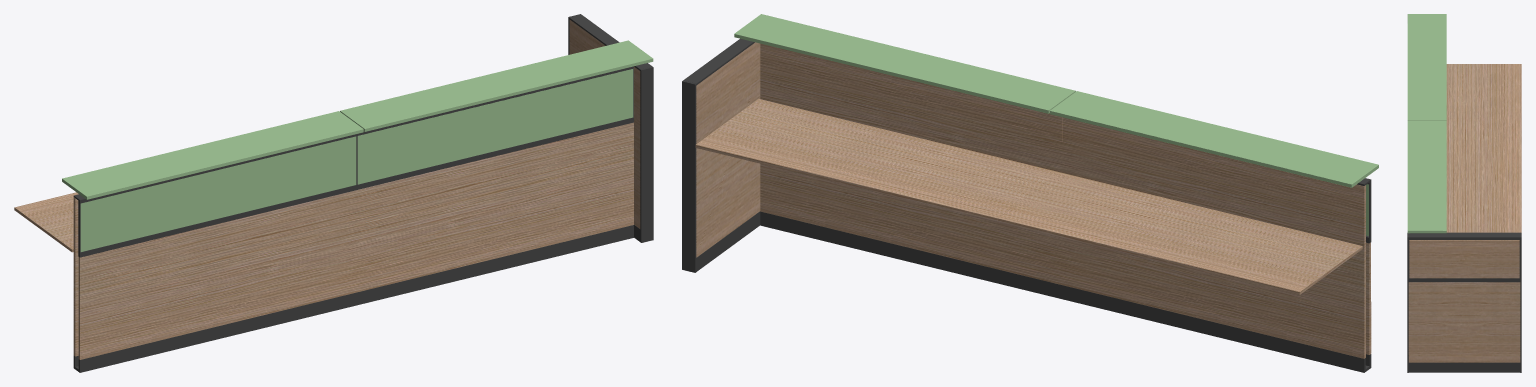
File: Counter.FBX
3 views of the same model, side by side, from view 1: azimuth 30°, elevation 25°; view 2: azimuth 150°, elevation 25°; view 3: azimuth 270°, elevation 25° (orthographic). The views are drawn at different scales.
Parts seen in each view (by area): view 1: Counter; view 2: Counter; view 3: Counter.
Part boxes in pixels (x1,y1,x2,y2): Counter: (14, 14, 653, 372); Counter: (682, 14, 1378, 372); Counter: (1407, 14, 1521, 372).
Size of the model in its own units: 368 by 113 by 82.
Materials: 3 (1 with a texture image).
